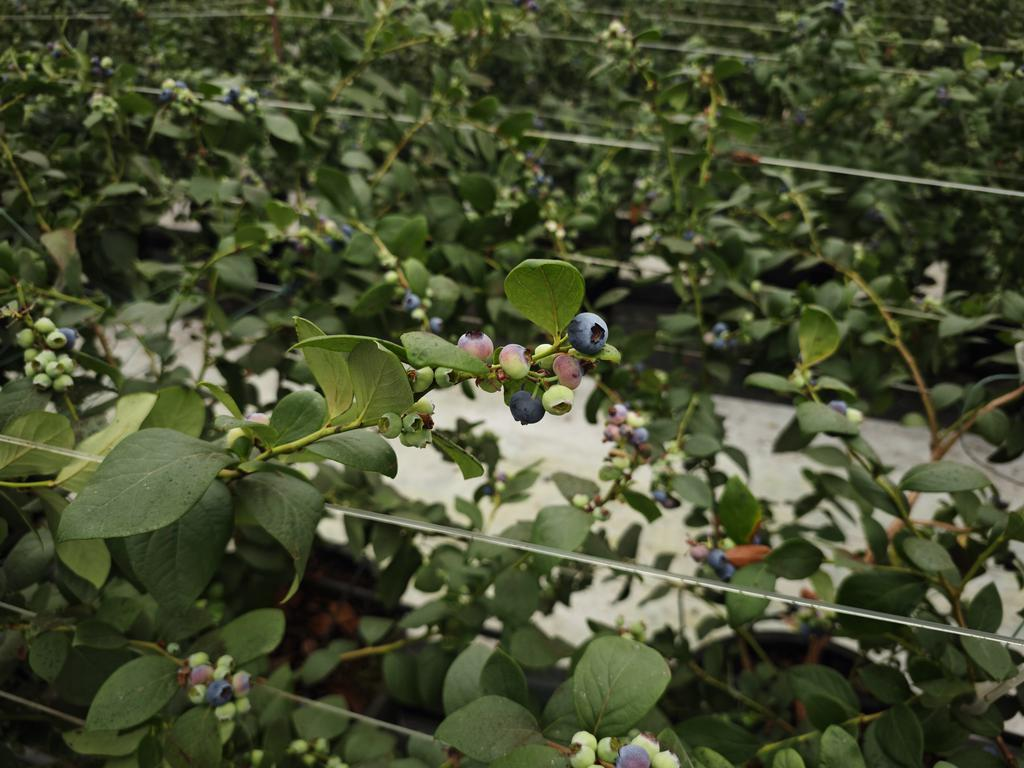RipeBlueBerry: (569, 312, 610, 356), (509, 391, 546, 427)
Semi-RipeBlueBerry: (458, 328, 494, 362), (553, 354, 582, 390)
UnripeBlueBerry: (500, 342, 533, 379), (541, 385, 577, 418)
